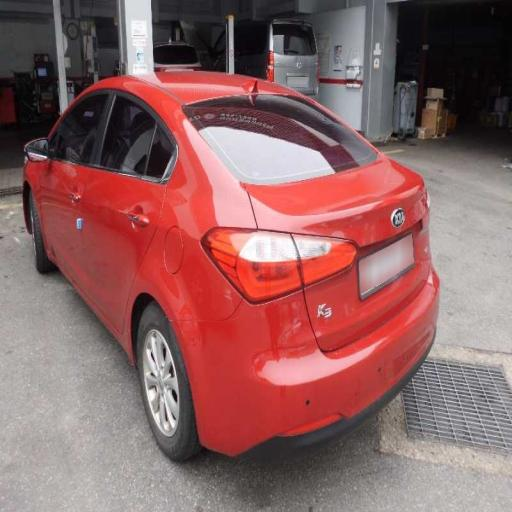scratch: (60, 190, 142, 278), (258, 293, 325, 365)
